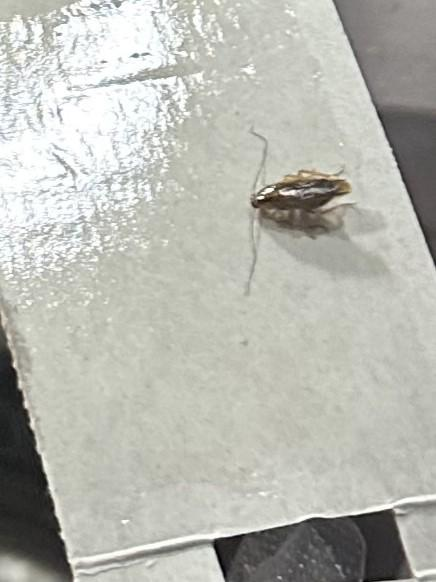cockroach: (201, 94, 389, 303)
